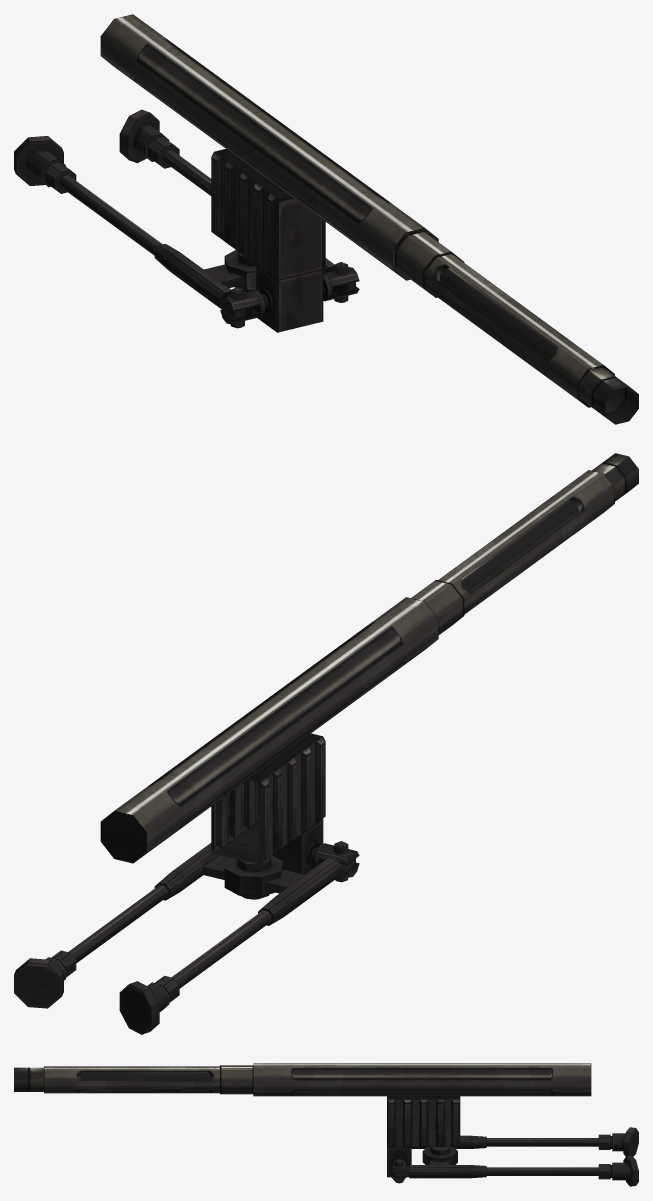
The model's file is SniperRifle_Warfare_Barrel_1.FBX.
3 views of the same model, one above another, from view 1: azimuth 30°, elevation 25°; view 2: azimuth 150°, elevation 25°; view 3: azimuth 270°, elevation 25° (orthographic). The views are drawn at different scales.
Visible parts, largest first — view 1: mesh_barrel; view 2: mesh_barrel; view 3: mesh_barrel.
Boxes of the visible parts, <box> form: mesh_barrel: <box>14,14,638,424</box>; mesh_barrel: <box>14,453,638,1034</box>; mesh_barrel: <box>14,1063,638,1186</box>.
Bounding box in the file's own units: 0.0983 × 0.1191 × 0.64.
